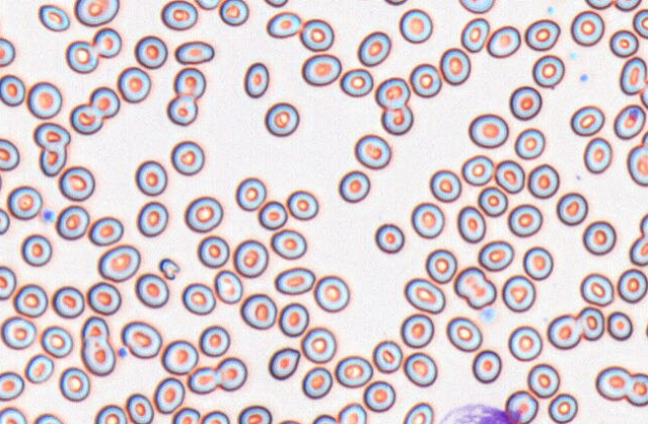PLT: (479, 305, 496, 325), (42, 208, 56, 224), (117, 347, 129, 358), (546, 6, 558, 17), (579, 73, 588, 81), (569, 51, 577, 59)
RBC: (453, 266, 496, 309), (120, 320, 162, 359), (97, 244, 140, 282), (403, 277, 445, 313), (184, 195, 223, 232), (468, 113, 508, 148), (240, 293, 277, 330), (26, 81, 62, 119), (313, 274, 349, 312), (233, 239, 268, 278), (81, 336, 115, 376), (58, 165, 95, 201), (161, 339, 198, 375), (300, 326, 336, 363), (354, 133, 391, 169), (301, 53, 341, 86), (595, 365, 631, 401), (446, 316, 482, 352), (546, 313, 582, 349), (501, 274, 535, 312), (334, 355, 373, 388), (507, 325, 542, 361), (6, 185, 42, 220), (410, 201, 444, 238), (117, 66, 151, 103), (134, 273, 169, 308), (264, 101, 299, 136), (55, 204, 89, 240), (357, 30, 391, 66), (570, 10, 604, 46), (134, 159, 167, 196), (153, 376, 185, 414), (400, 313, 434, 348), (86, 281, 121, 315), (403, 352, 437, 387), (507, 203, 542, 237), (13, 283, 48, 317), (579, 272, 614, 306), (398, 8, 432, 43), (582, 220, 616, 255), (170, 140, 204, 175), (274, 266, 315, 295), (0, 316, 36, 349), (524, 18, 560, 51), (439, 47, 470, 85), (74, 0, 119, 26), (527, 363, 560, 398), (375, 76, 410, 109), (299, 18, 334, 51), (509, 85, 542, 120), (136, 201, 168, 237), (456, 205, 486, 243), (504, 390, 538, 423), (486, 25, 520, 58), (181, 282, 215, 315), (134, 35, 167, 69), (215, 356, 247, 391), (425, 248, 457, 283), (527, 163, 559, 198), (613, 104, 645, 139), (570, 104, 605, 136), (59, 366, 90, 402), (270, 228, 306, 259), (477, 240, 513, 271), (160, 0, 197, 30), (619, 56, 647, 95), (65, 40, 98, 73), (40, 325, 73, 358), (51, 285, 84, 318), (556, 191, 588, 225), (532, 54, 564, 88), (409, 63, 441, 97), (278, 302, 309, 337), (522, 245, 553, 280), (235, 176, 266, 211), (583, 136, 612, 173), (173, 66, 205, 99), (268, 347, 300, 380), (197, 235, 229, 268), (461, 154, 494, 186), (429, 169, 461, 202), (20, 233, 52, 266), (338, 170, 370, 203), (69, 103, 103, 134), (213, 269, 243, 304), (88, 216, 123, 246), (617, 268, 647, 303), (33, 121, 70, 149), (198, 325, 230, 357), (363, 380, 395, 412), (301, 366, 332, 399), (339, 67, 373, 97), (471, 349, 501, 383), (372, 339, 402, 373), (494, 159, 524, 193), (460, 17, 489, 52), (89, 86, 120, 118), (381, 104, 413, 135), (166, 94, 197, 126), (514, 127, 545, 159), (286, 189, 318, 220), (575, 306, 604, 340), (243, 61, 269, 98), (547, 392, 578, 423), (477, 186, 508, 217), (174, 40, 214, 64), (266, 11, 301, 38), (24, 353, 54, 383), (257, 200, 287, 230), (374, 223, 404, 253), (92, 27, 121, 58), (38, 3, 70, 31), (626, 144, 647, 186), (38, 146, 67, 176), (125, 393, 154, 423), (187, 366, 218, 394), (0, 73, 25, 106), (609, 29, 638, 57), (606, 310, 633, 340), (218, 0, 249, 26), (625, 372, 647, 406), (0, 370, 24, 401), (81, 315, 109, 341), (402, 401, 433, 423), (93, 404, 127, 424), (0, 137, 20, 171), (237, 404, 272, 423), (337, 402, 366, 423), (629, 235, 648, 266), (0, 265, 16, 300), (171, 406, 200, 423), (458, 0, 494, 13), (0, 406, 27, 423), (0, 37, 15, 67), (632, 8, 647, 38), (199, 410, 230, 423), (33, 413, 64, 423), (615, 0, 641, 11), (0, 207, 10, 235), (584, 0, 613, 9), (311, 413, 337, 423), (194, 0, 220, 10), (639, 212, 648, 238), (640, 82, 648, 109), (263, 0, 288, 7), (276, 418, 302, 424), (383, 0, 407, 6), (641, 128, 648, 148), (645, 314, 648, 340)
Schistocyte: (159, 258, 182, 280)
